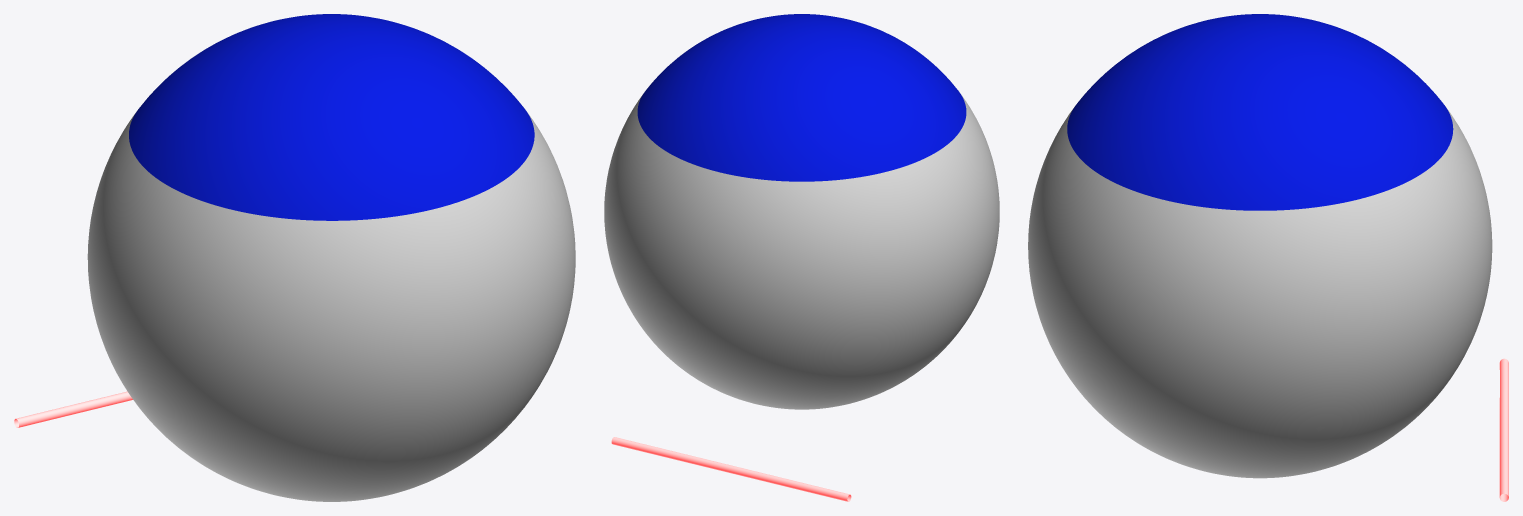
The picture shows the model from 3 angles, left to right: view 1: azimuth 30°, elevation 25°; view 2: azimuth 150°, elevation 25°; view 3: azimuth 270°, elevation 25°; orthographic projection. The views are drawn at different scales.
Parts seen in each view (by area): view 1: PUTOSINDIOSDEMIERDA, BézierCurve; view 2: PUTOSINDIOSDEMIERDA, BézierCurve; view 3: PUTOSINDIOSDEMIERDA, BézierCurve.
Part boxes in pixels (left/top/right/bottom): PUTOSINDIOSDEMIERDA: left=87, top=14, right=575, bottom=501; BézierCurve: left=14, top=391, right=132, bottom=427; PUTOSINDIOSDEMIERDA: left=604, top=14, right=999, bottom=409; BézierCurve: left=611, top=437, right=851, bottom=501; PUTOSINDIOSDEMIERDA: left=1028, top=14, right=1492, bottom=478; BézierCurve: left=1499, top=358, right=1508, bottom=501.
Bounding box in the file's own units: 614 × 614 × 635.
